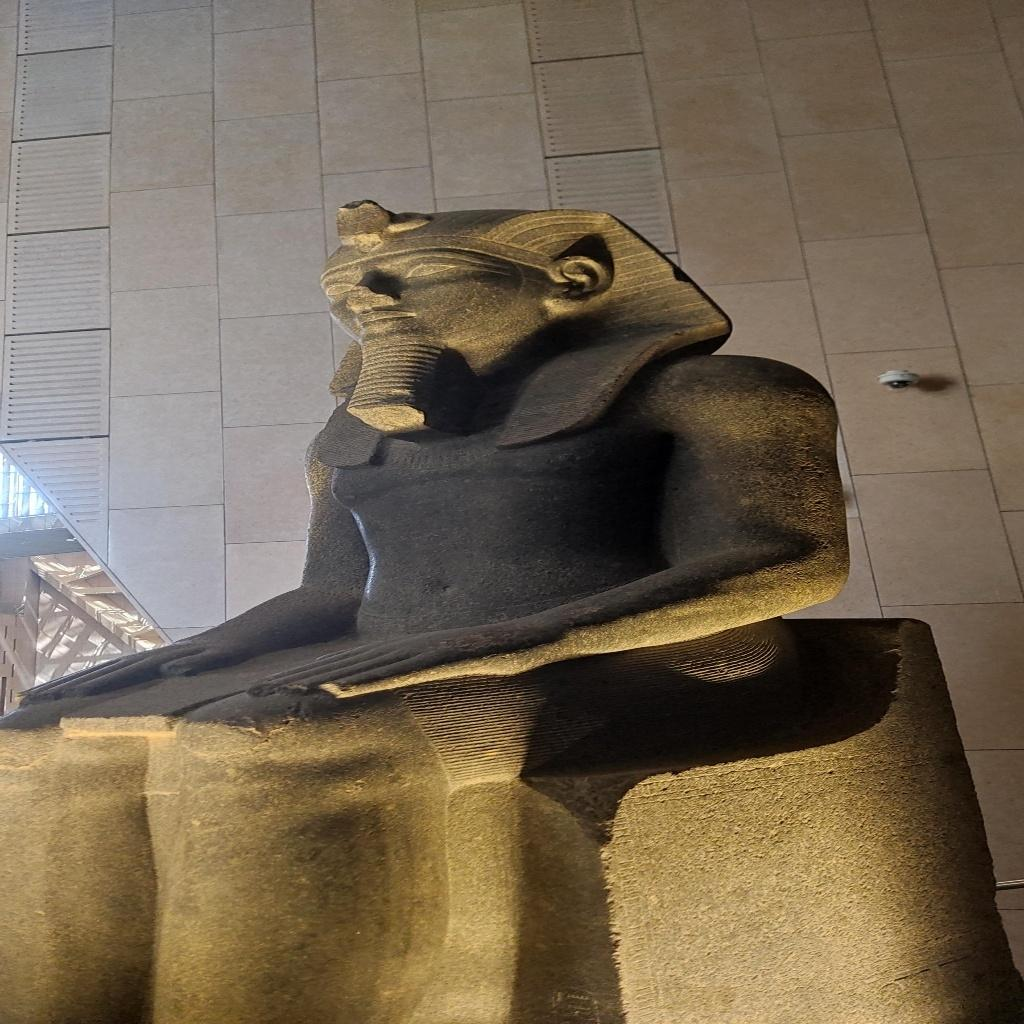Seated Statue of Amenhotep III: (9, 196, 944, 1018)
